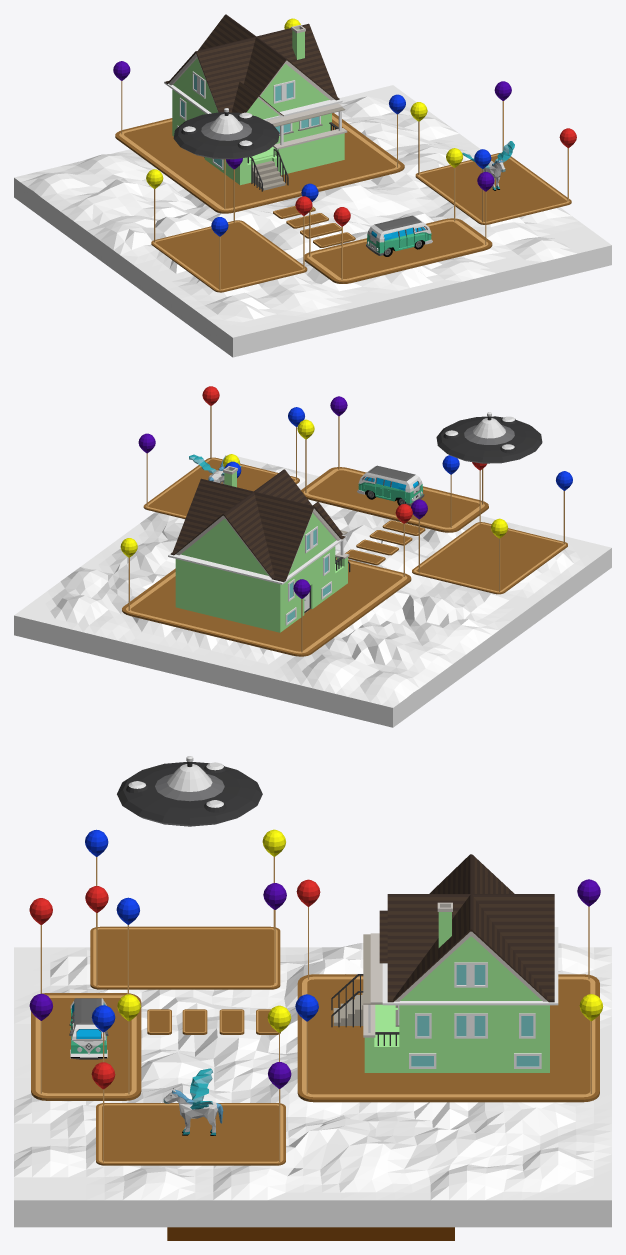
3 renders of one model, top to bottom at view 1: azimuth 30°, elevation 25°; view 2: azimuth 150°, elevation 25°; view 3: azimuth 270°, elevation 25°, orthographic. The views are drawn at different scales.
Visible parts, largest first — view 1: Cube.013, Cube.274, OBJRANDOM_UFO, VEHICLES_VAN, ANIMAL_PEGASO; view 2: Cube.013, Cube.274, OBJRANDOM_UFO, VEHICLES_VAN; view 3: Cube.013, Cube.274, OBJRANDOM_UFO, UNDERGROUND_ART_PIECE_VAN_GOGH, VEHICLES_VAN, ANIMAL_PEGASO.
Part boxes in pixels (x1=…): Cube.013: x1=14, y1=18, x2=611, y2=357; Cube.274: x1=164, y1=14, x2=347, y2=191; OBJRANDOM_UFO: x1=173, y1=108, x2=279, y2=159; VEHICLES_VAN: x1=366, y1=215, x2=432, y2=256; ANIMAL_PEGASO: x1=462, y1=141, x2=514, y2=190; Cube.013: x1=14, y1=386, x2=611, y2=727; Cube.274: x1=168, y1=466, x2=350, y2=632; OBJRANDOM_UFO: x1=436, y1=412, x2=542, y2=463; VEHICLES_VAN: x1=357, y1=465, x2=424, y2=506; Cube.013: x1=14, y1=829, x2=611, y2=1227; Cube.274: x1=331, y1=854, x2=558, y2=1072; OBJRANDOM_UFO: x1=117, y1=756, x2=262, y2=826; UNDERGROUND_ART_PIECE_VAN_GOGH: x1=167, y1=1227, x2=454, y2=1240; VEHICLES_VAN: x1=69, y1=998, x2=108, y2=1059; ANIMAL_PEGASO: x1=163, y1=1068, x2=223, y2=1135.
Bounding box in the file's own units: 4000 × 2099 × 4000.
Materials: 38 (2 with a texture image).
